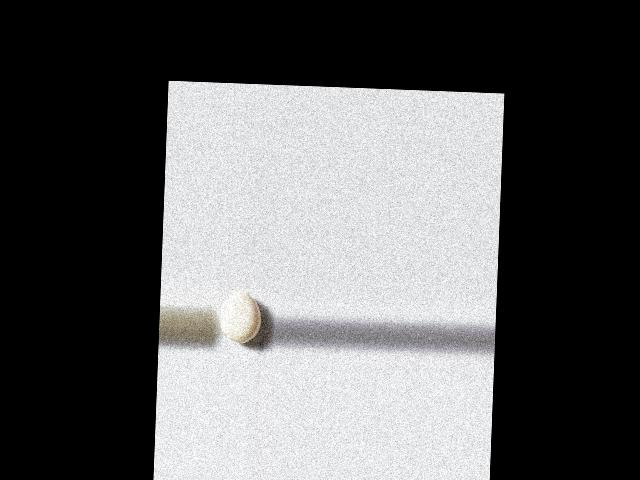egg: (219, 291, 262, 344)
